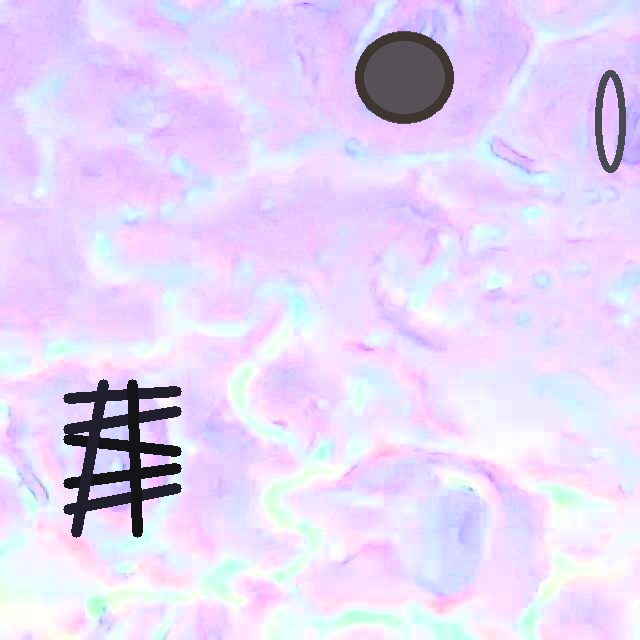open: (63, 380, 180, 537), (355, 31, 452, 123), (594, 69, 626, 173)
